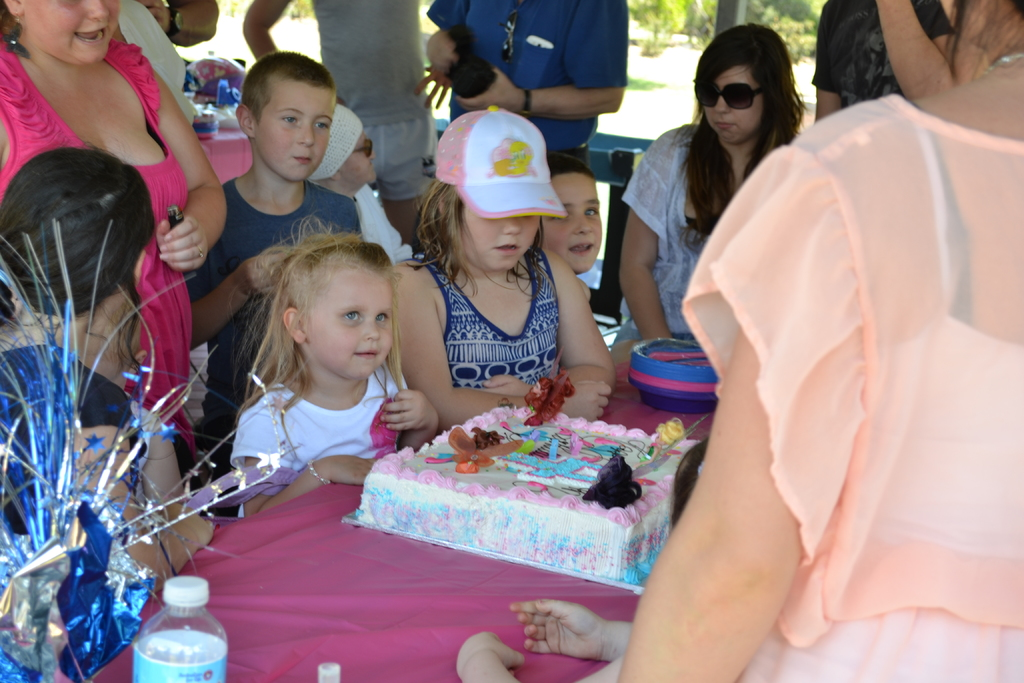cake: (342, 404, 698, 591)
